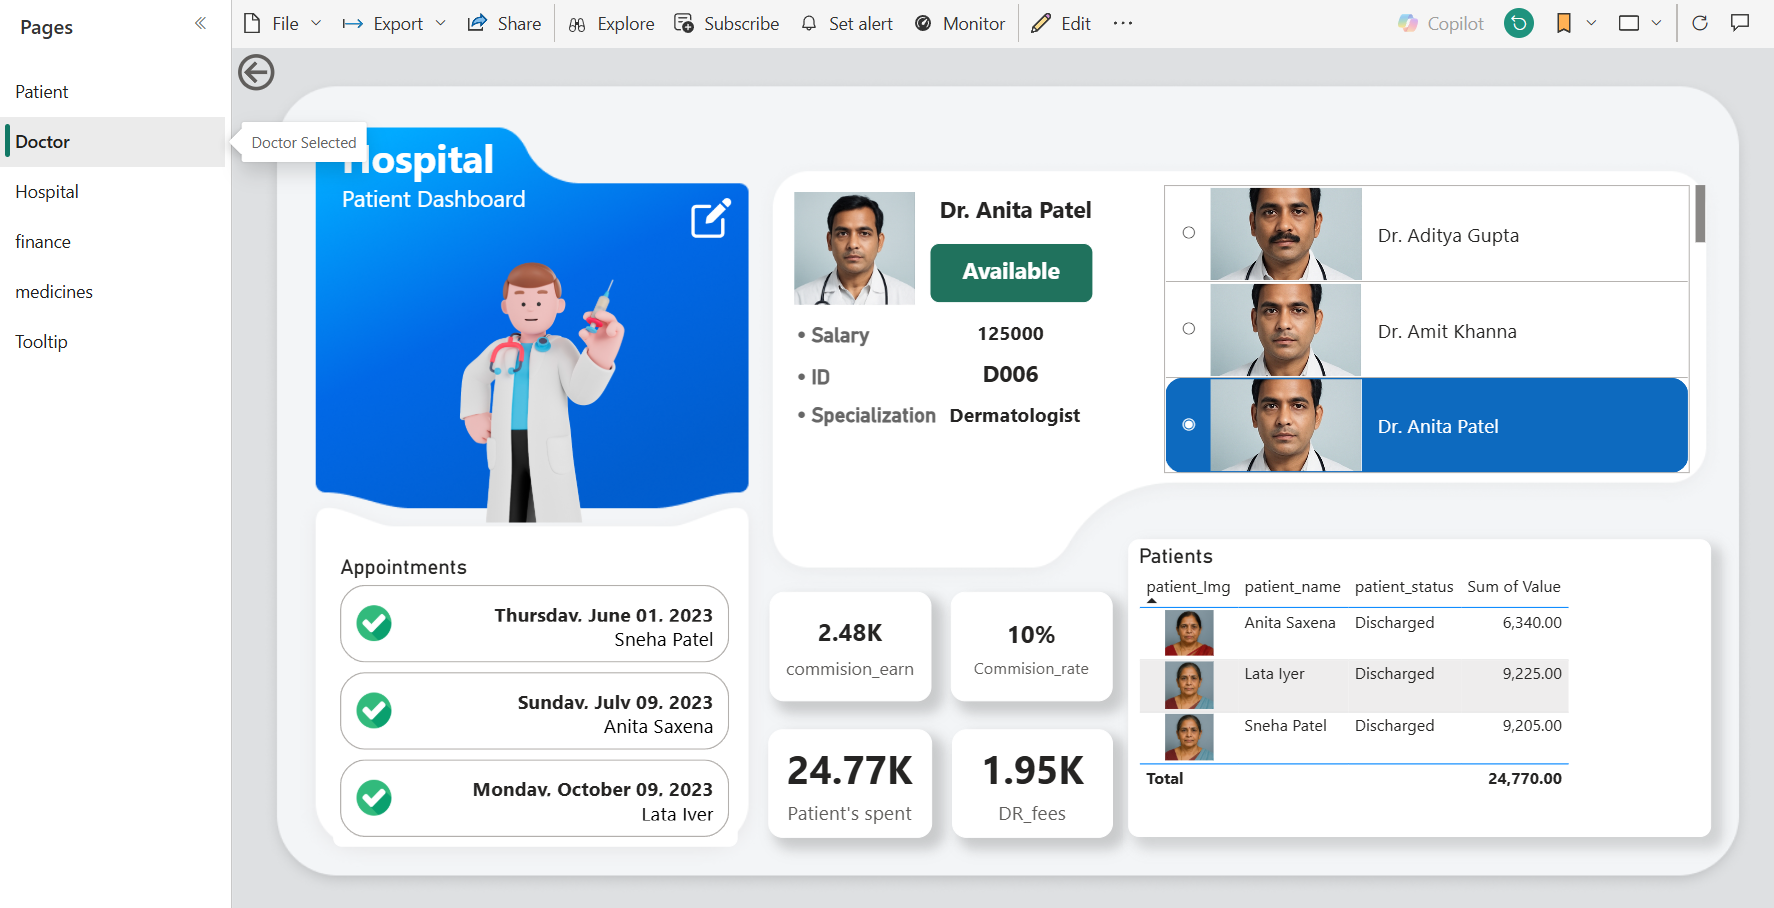

The dashboard page shown, as its layout file describes it:
{"tool":"powerbi","page":{"name":"Doctor","canvas":[1280,720],"ordinal":1},"visuals":[{"type":"textbox","box":[85.3,64,335.6,98.1],"z":0},{"type":"advancedSlicerVisual","fields":{"Values":["patient_detailss.doctor_name"]},"box":[764.2,108.5,456.9,248.6],"z":1000,"group":"g1"},{"type":"image","box":[370.5,124.2,50.5,32.6],"z":1000},{"type":"card","fields":{"Values":["_measures.total_bill_amount"]},"box":[442.7,561.8,135,89.3],"z":2000},{"type":"card","fields":{"Values":["_measures.de_fees"]},"box":[593.6,561.8,133,89.3],"z":3000},{"type":"card","fields":{"Values":["_measures.commision_earn"]},"box":[443.2,448.4,133.7,90],"z":4000},{"type":"card","fields":{"Values":["_measures.dr_commision_rate"]},"box":[592.6,448.4,133.7,90.5],"z":5000},{"type":"cardVisual","fields":{"Data":["Min(patient_detailss.patient_Img)"]},"box":[437.8,20,151.1,198.9],"z":6000},{"type":"card","fields":{"Values":["Min(patient_detailss.doctor_name)"]},"box":[563.2,110.5,167.4,49.5],"z":7000},{"type":"card","fields":{"Values":["Min(patient_detailss.doctor_availability)"]},"box":[575.7,160.8,135,49.6],"z":8000},{"type":"shape","title":"• Salary","box":[466,226.5,109.6,20.2],"z":9000},{"type":"shape","title":"• ID","box":[466,261.1,93.8,28.9],"z":10000},{"type":"shape","title":"• Specialization","box":[466.3,292.6,140,36.8],"z":11000},{"type":"card","fields":{"Values":["Min(patient_detailss.doctor_salary)"]},"box":[566.3,223.2,152.6,27.4],"z":12000},{"type":"card","fields":{"Values":["Min(patient_detailss.doctor_doctor_id)"]},"box":[574.7,253.7,135.8,33.7],"z":13000},{"type":"card","fields":{"Values":["Min(patient_detailss.doctor_specialization)"]},"box":[570.5,287.4,151.6,34.7],"z":14000},{"type":"image","box":[138.5,139.9,225.1,277],"z":15000},{"type":"advancedSlicerVisual","title":"Appointments","fields":{"Label":["Min(patient_detailss.Age Category)"],"Values":["patient_detailss.surgery_appointment_date"]},"box":[83.7,412.6,333.3,246.7],"z":16000},{"type":"tableEx","title":"Patients","fields":{"Values":["patient_detailss.patient_Img","patient_detailss.patient_name","patient_detailss.patient_status","Sum(bill.Value)"]},"box":[739.5,405.1,480.6,245.7],"z":18000},{"type":"group","id":"g1","title":"Group 1","box":[764.2,108.5,456.9,248.6],"z":19000},{"type":"actionButton","box":[0,0,100,40],"z":20000}]}

Visuals, with their boxes on the page's 1280x720 design canvas (x1, y1, x2, y2). These are canvas units, not pixel positions in the 1774x908 screenshot, which may show the page scaled, cropped or inside an application window:
textbox: left=85, top=64, right=421, bottom=162
advancedSlicerVisual - patient_detailss.doctor_name: left=764, top=108, right=1221, bottom=357
image: left=370, top=124, right=421, bottom=157
card - _measures.total_bill_amount: left=443, top=562, right=578, bottom=651
card - _measures.de_fees: left=594, top=562, right=727, bottom=651
card - _measures.commision_earn: left=443, top=448, right=577, bottom=538
card - _measures.dr_commision_rate: left=593, top=448, right=726, bottom=539
cardVisual - Min(patient_detailss.patient_Img): left=438, top=20, right=589, bottom=219
card - Min(patient_detailss.doctor_name): left=563, top=110, right=731, bottom=160
card - Min(patient_detailss.doctor_availability): left=576, top=161, right=711, bottom=210
"• Salary" shape: left=466, top=226, right=576, bottom=247
"• ID" shape: left=466, top=261, right=560, bottom=290
"• Specialization" shape: left=466, top=293, right=606, bottom=329
card - Min(patient_detailss.doctor_salary): left=566, top=223, right=719, bottom=251
card - Min(patient_detailss.doctor_doctor_id): left=575, top=254, right=710, bottom=287
card - Min(patient_detailss.doctor_specialization): left=570, top=287, right=722, bottom=322
image: left=138, top=140, right=364, bottom=417
"Appointments" advancedSlicerVisual: left=84, top=413, right=417, bottom=659
"Patients" tableEx: left=740, top=405, right=1220, bottom=651
"Group 1" group: left=764, top=108, right=1221, bottom=357
actionButton: left=0, top=0, right=100, bottom=40
